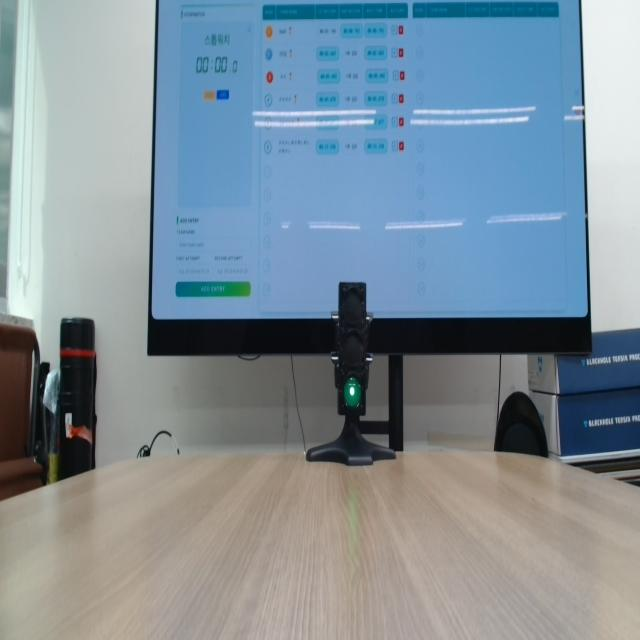green_light: (344, 377, 361, 408)
